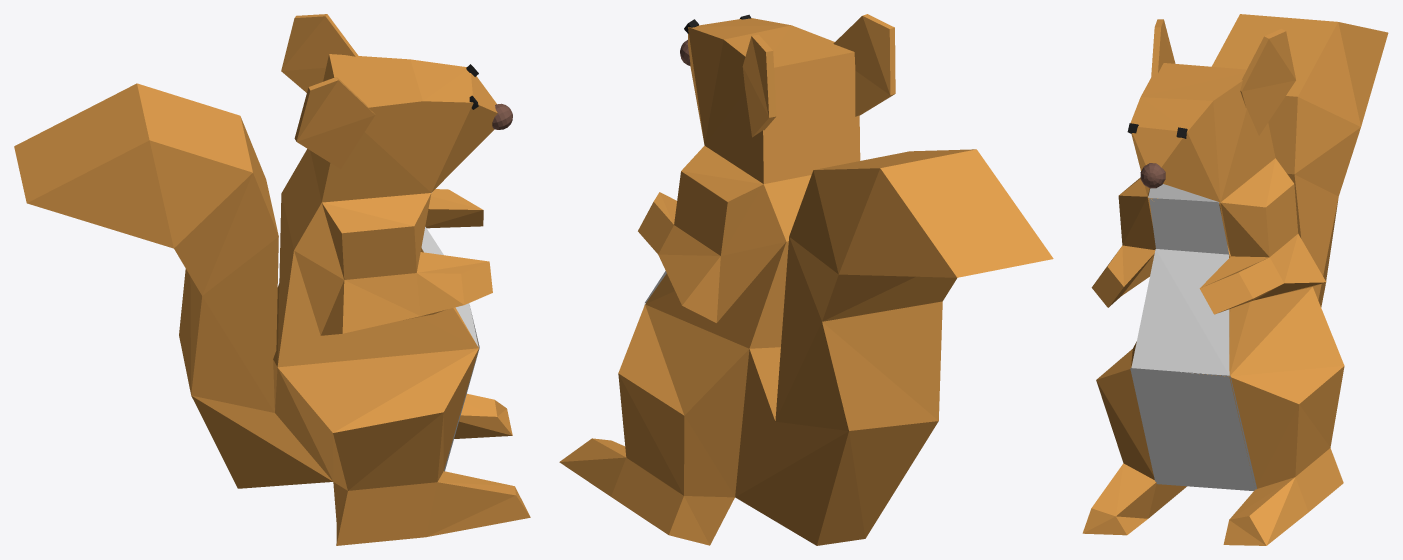
The model's file is model-triangulated.obj.
3 renders of one model, left to right at view 1: azimuth 30°, elevation 25°; view 2: azimuth 150°, elevation 25°; view 3: azimuth 270°, elevation 25°, orthographic. The views are drawn at different scales.
Visible parts, largest first — view 1: group270929860; view 2: group270929860; view 3: group270929860, group564686935.
Part boxes in pixels (box(x1,y1,x2,y2)): group270929860: box(14, 14, 530, 545); group270929860: box(559, 14, 1053, 545); group270929860: box(1082, 14, 1388, 545); group564686935: box(1140, 163, 1165, 188).
Size of the model in its own units: 0.4 by 0.3929 by 0.2341.
